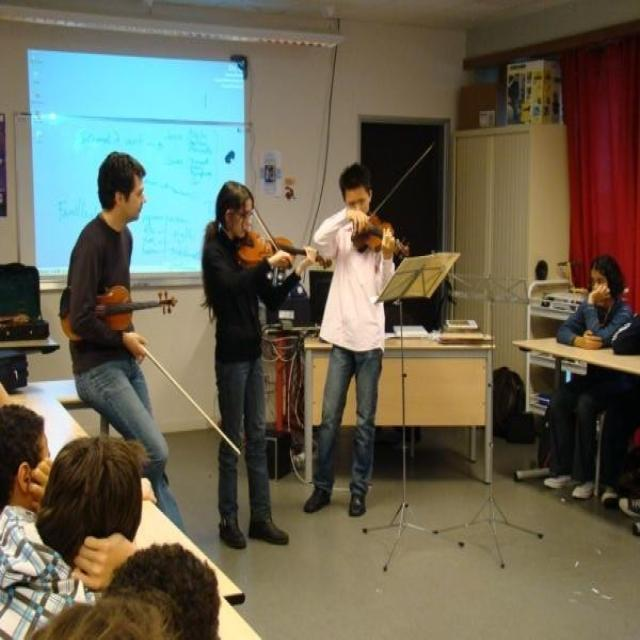violin: (58, 282, 181, 339), (234, 229, 334, 272), (348, 215, 414, 258)
